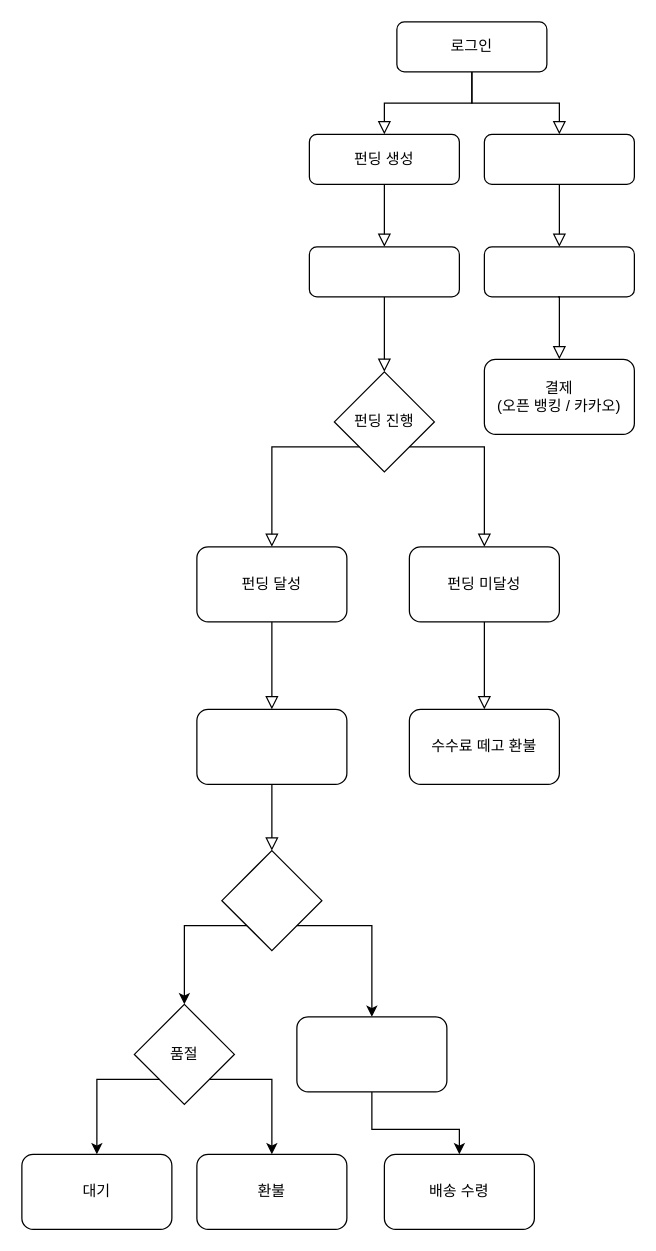
Some shapes in this 656 by 1251 pixel diagram are drawn without their labels. Each missing label, with the centre of its shape:
"감사 카드 작성" belongs at pixel 271 746.
"주문 (자동화)" belongs at pixel 371 1054.
"축하카드 받기" belongs at pixel 271 900.
"축하카드 작성" belongs at pixel 558 271.
"펀딩 알림" belongs at pixel 383 271.
"펀딩 참여" belongs at pixel 558 158.
